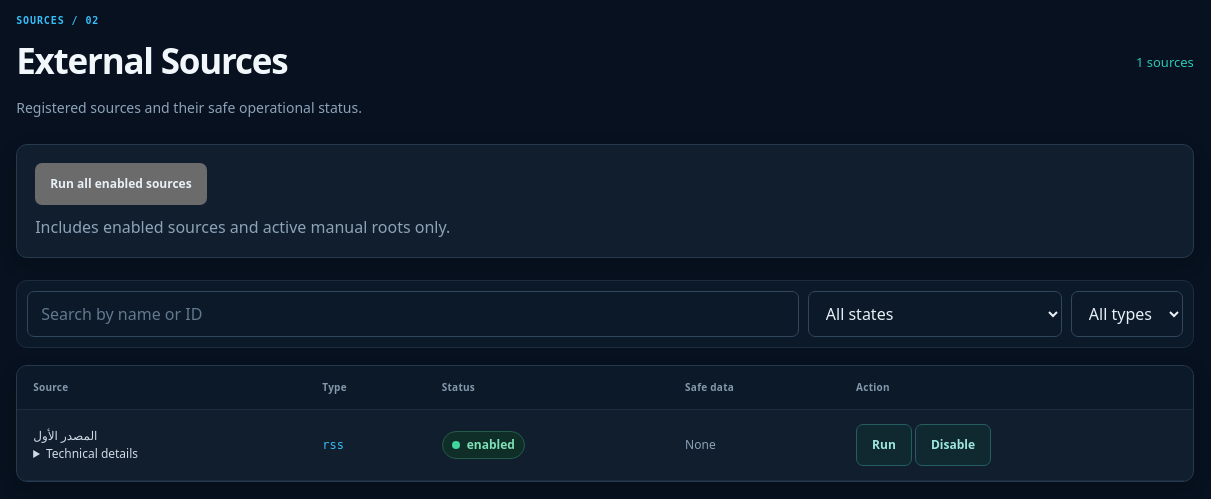
Test case: single external source job › keeps approved state distinct from repeated operational disable and enable actions
Expected: the text "المصدر الأول" is shown, x1=33 y1=427 x2=98 y2=444
Click the button "Disable" at (953, 445), box x1=915 y1=424 x2=991 y2=466
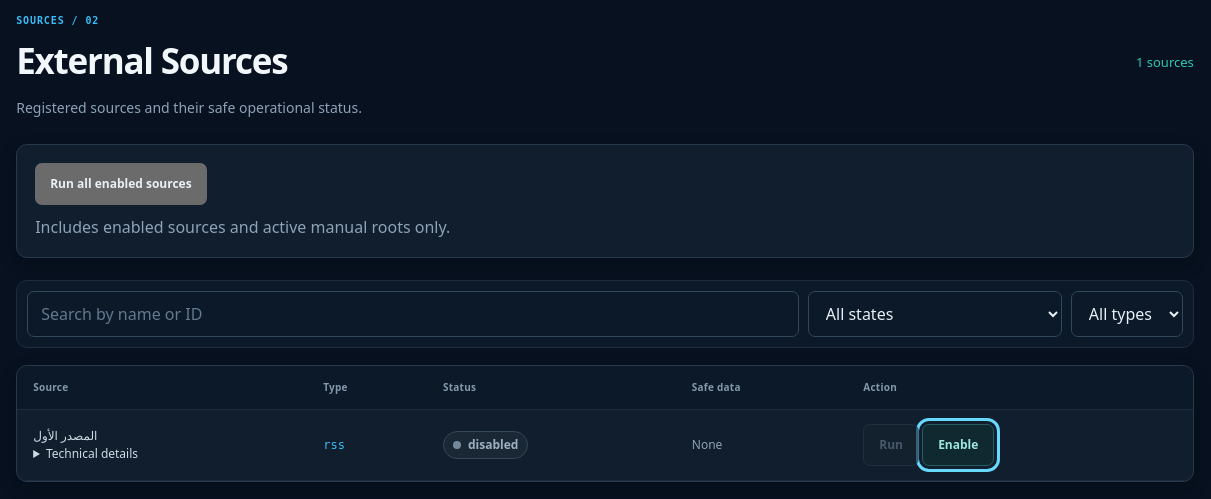
Expected: the element named "Status: disabled" is shown, x1=443 y1=431 x2=528 y2=459
Click the button "Enable" at (958, 445), box x1=922 y1=424 x2=994 y2=466
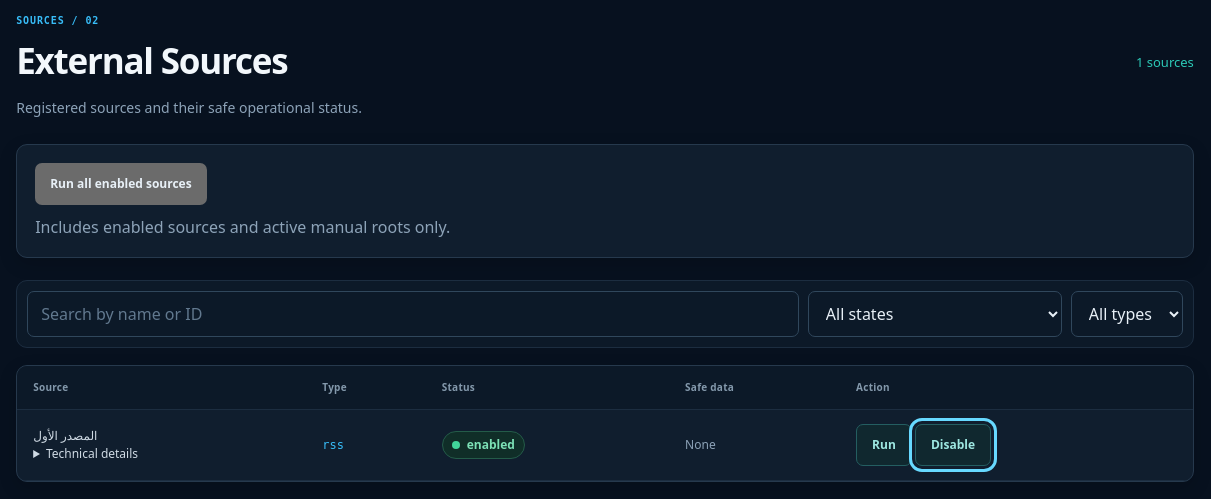
Expected: the element named "Status: enabled" is shown, x1=442 y1=431 x2=525 y2=459
